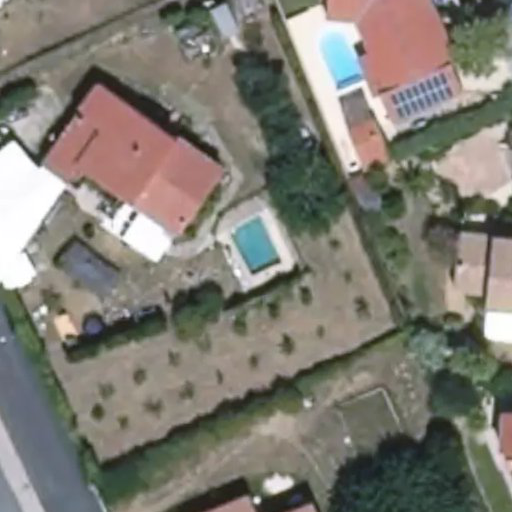pool: (227, 226, 284, 257)
